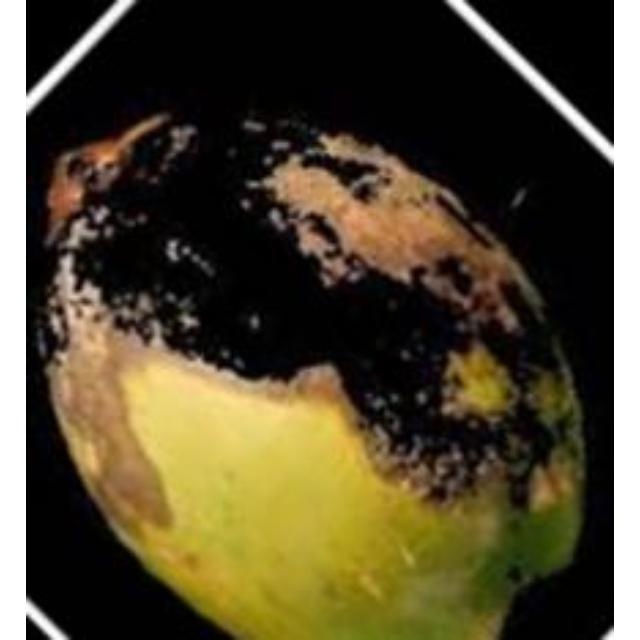damaged: (40, 107, 592, 637)
